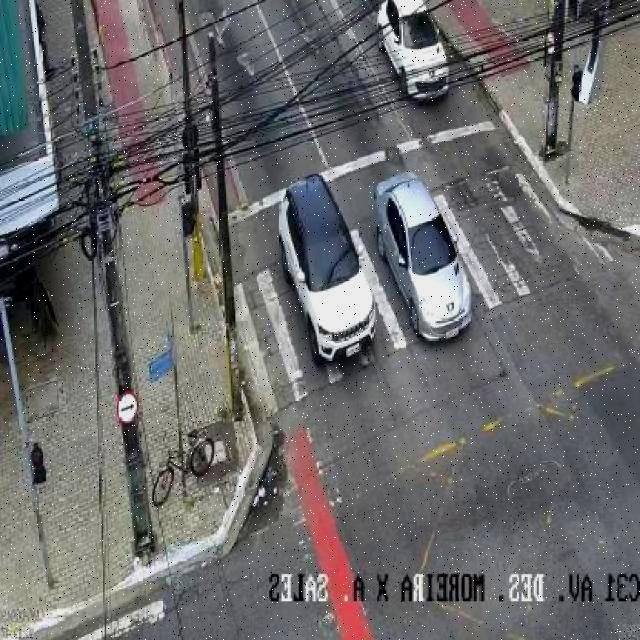Car: (276, 172, 376, 364), (373, 170, 474, 344), (376, 0, 449, 103)
Cycle: (152, 428, 219, 507)
